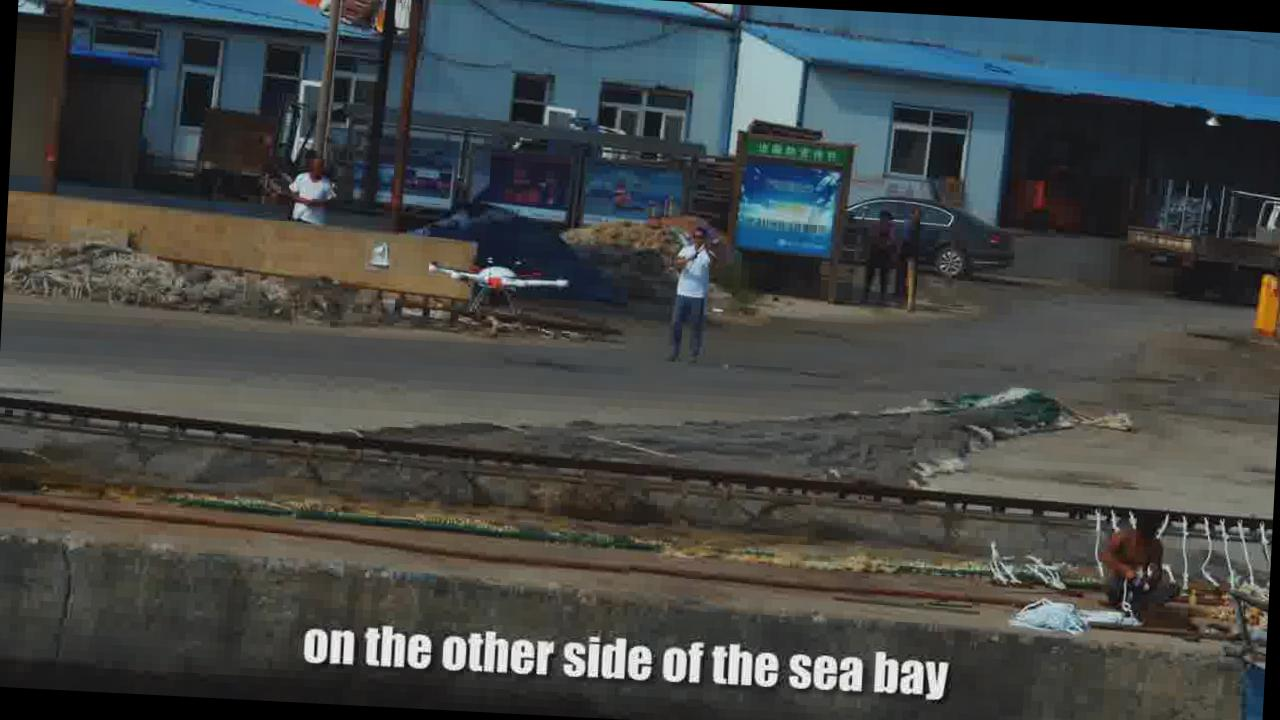drone: (418, 244, 570, 314)
